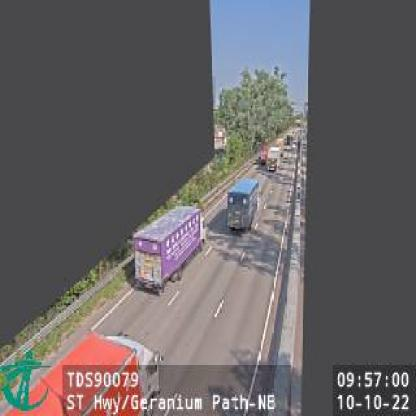Truck: (0, 328, 165, 416), (133, 200, 205, 290), (228, 176, 259, 231), (262, 147, 276, 170)
